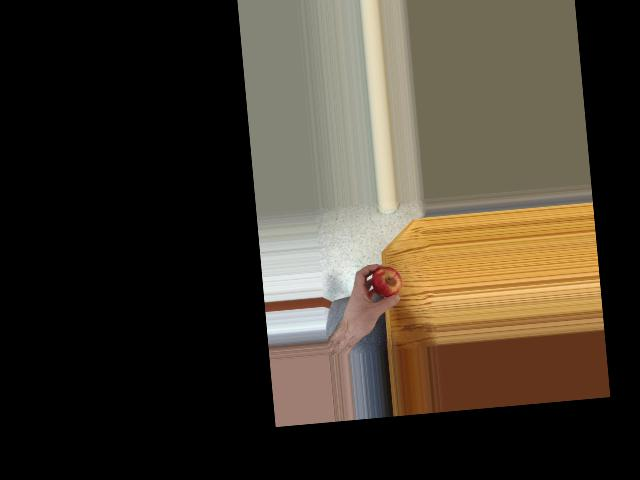apple: (370, 263, 402, 300)
